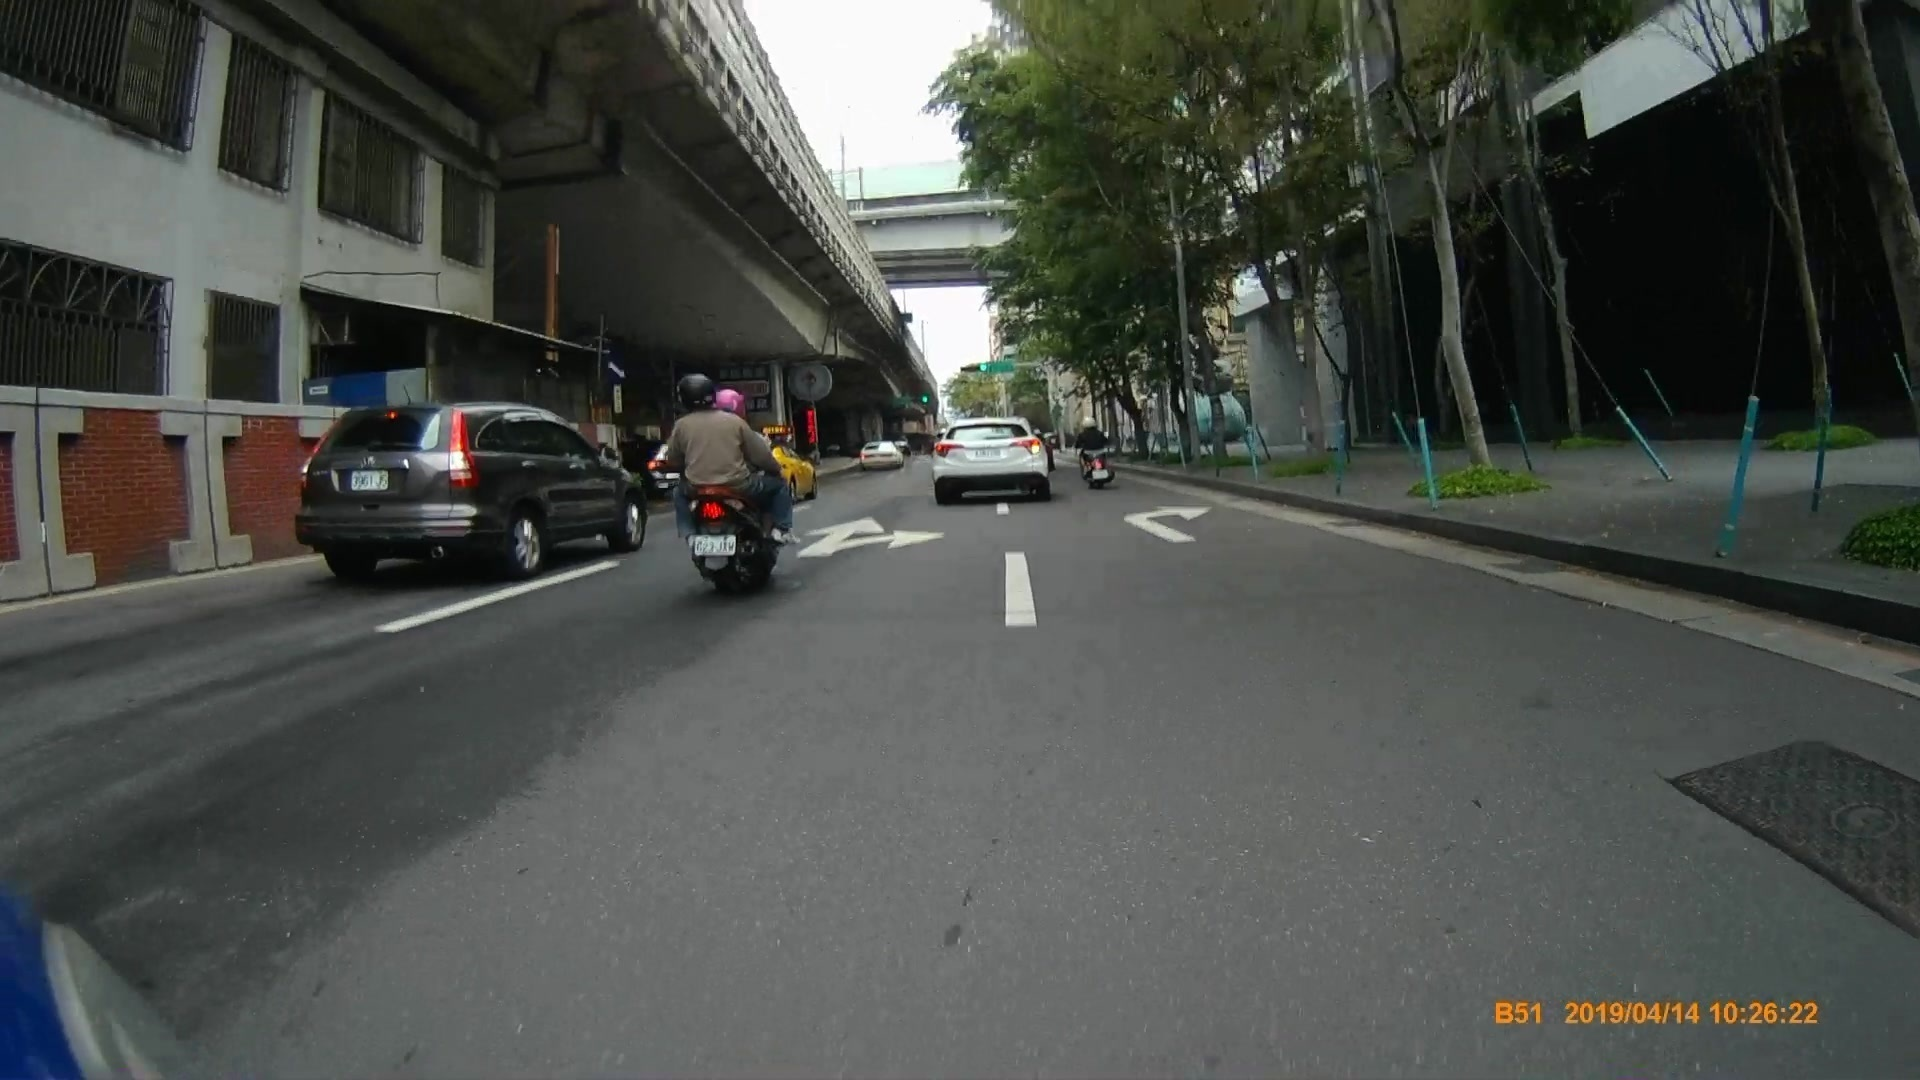License_plate: (690, 533, 738, 560), (344, 469, 394, 492)
